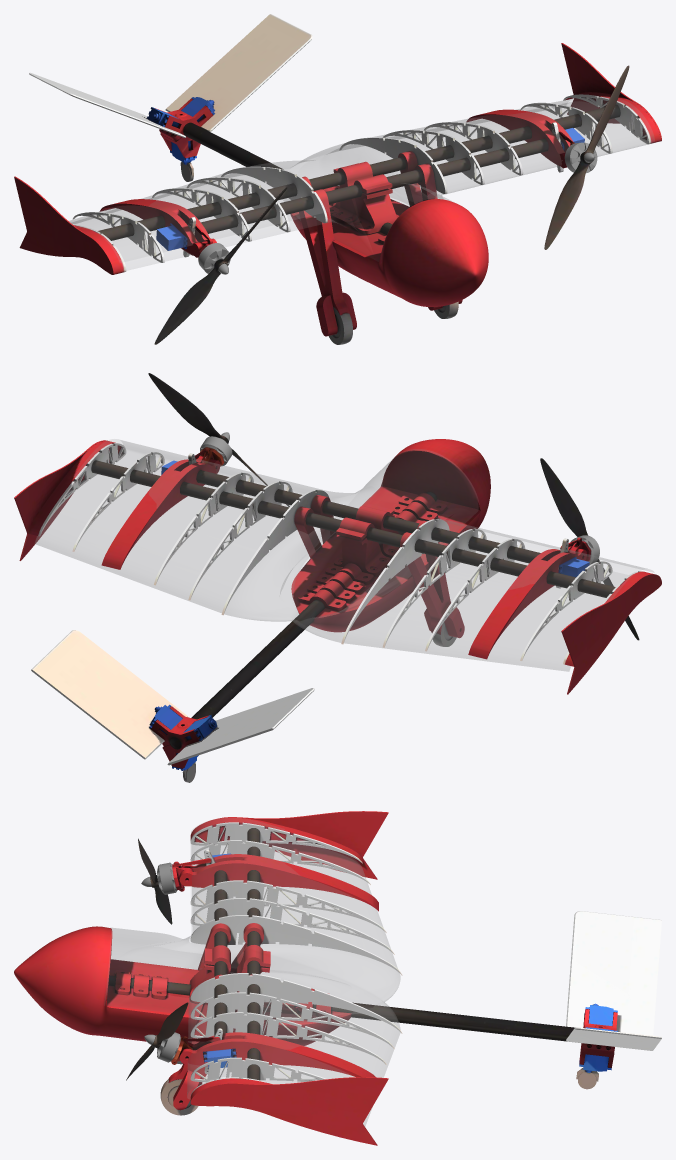
File: micro-2024.glb
3 renders of one model, top to bottom at view 1: azimuth 30°, elevation 25°; view 2: azimuth 150°, elevation 25°; view 3: azimuth 270°, elevation 25°, orthographic.
Parts seen in each view (by area): view 1: Frame1, Frame1.001; view 2: Frame1, Frame1.001; view 3: Frame1, Frame1.001.
Part boxes in pixels (box(x1,y1,x2,y2)): Frame1: box(14, 14, 661, 344); Frame1.001: box(69, 97, 654, 269); Frame1: box(14, 373, 661, 782); Frame1.001: box(35, 439, 653, 671); Frame1: box(14, 811, 661, 1145); Frame1.001: box(105, 818, 400, 1126).
Size of the model in its own units: 0.8573 by 0.3039 by 0.8805.
Materials: 3 (1 with a texture image).
